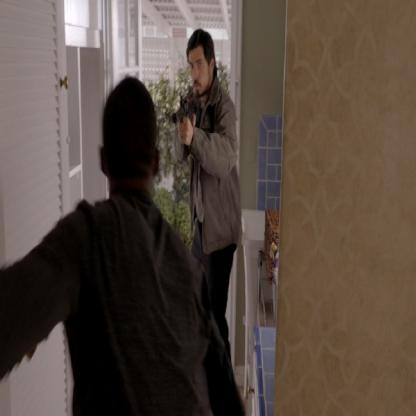Gun: (167, 81, 200, 161)
